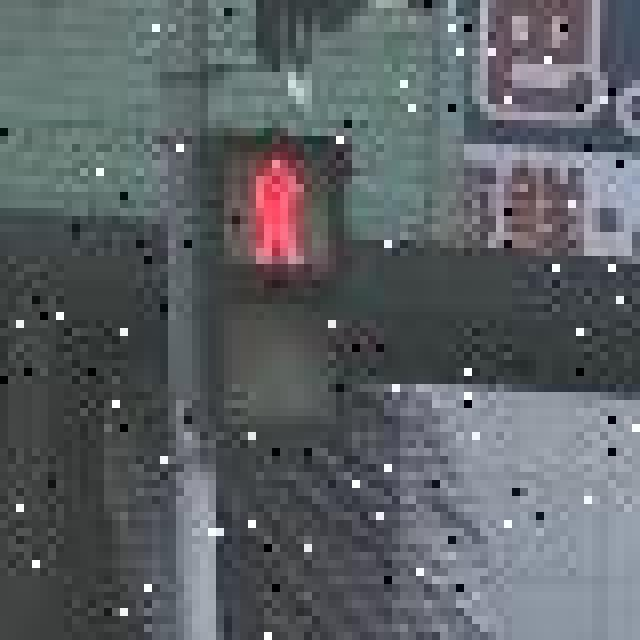redlight: (176, 120, 328, 440)
